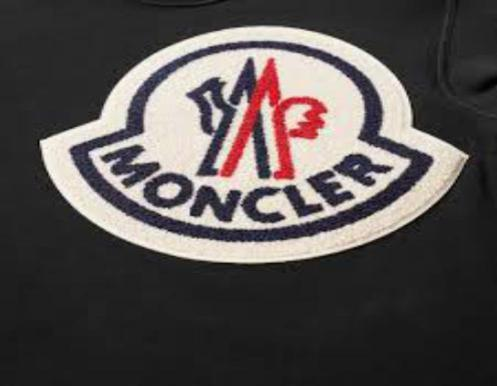MONCLER: (184, 53, 329, 187)
